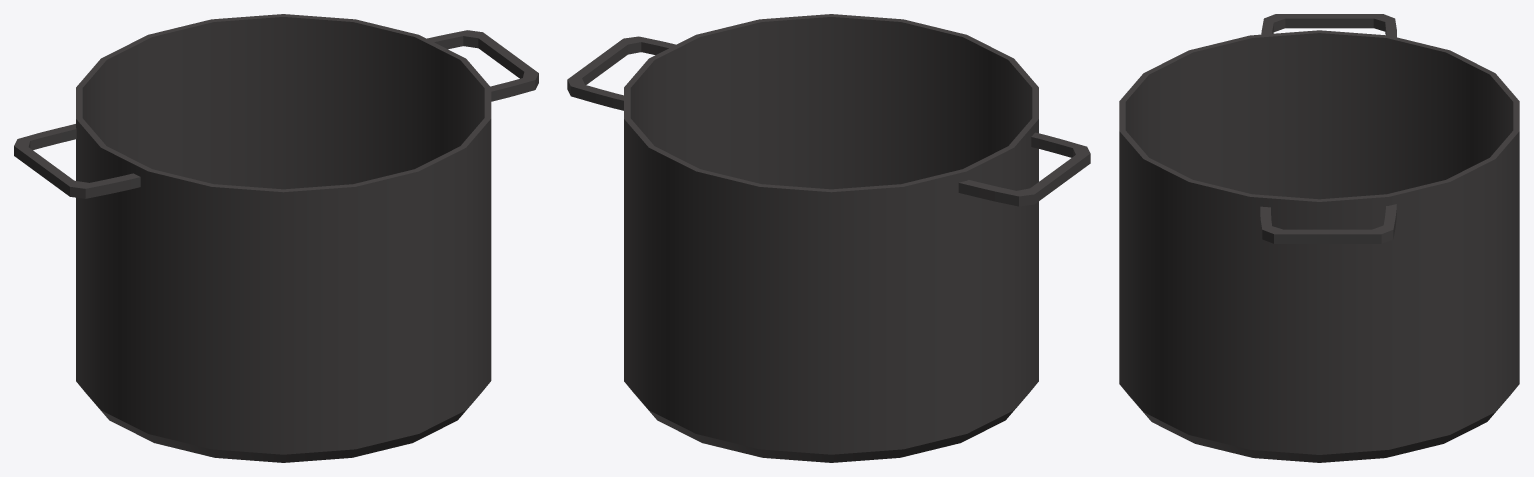
The model's file is Kitchen_CrockPotBig.FBX.
3 views of the same model, side by side, from view 1: azimuth 30°, elevation 25°; view 2: azimuth 150°, elevation 25°; view 3: azimuth 270°, elevation 25° (orthographic). The views are drawn at different scales.
Visible parts, largest first — view 1: KitchenCrockPot_Big; view 2: KitchenCrockPot_Big; view 3: KitchenCrockPot_Big.
Part boxes in pixels (left/top/right/bottom): KitchenCrockPot_Big: left=14, top=14, right=538, bottom=462; KitchenCrockPot_Big: left=567, top=14, right=1090, bottom=462; KitchenCrockPot_Big: left=1119, top=14, right=1519, bottom=462.
Size of the model in its own units: 0.4866 by 0.273 by 0.3738.
